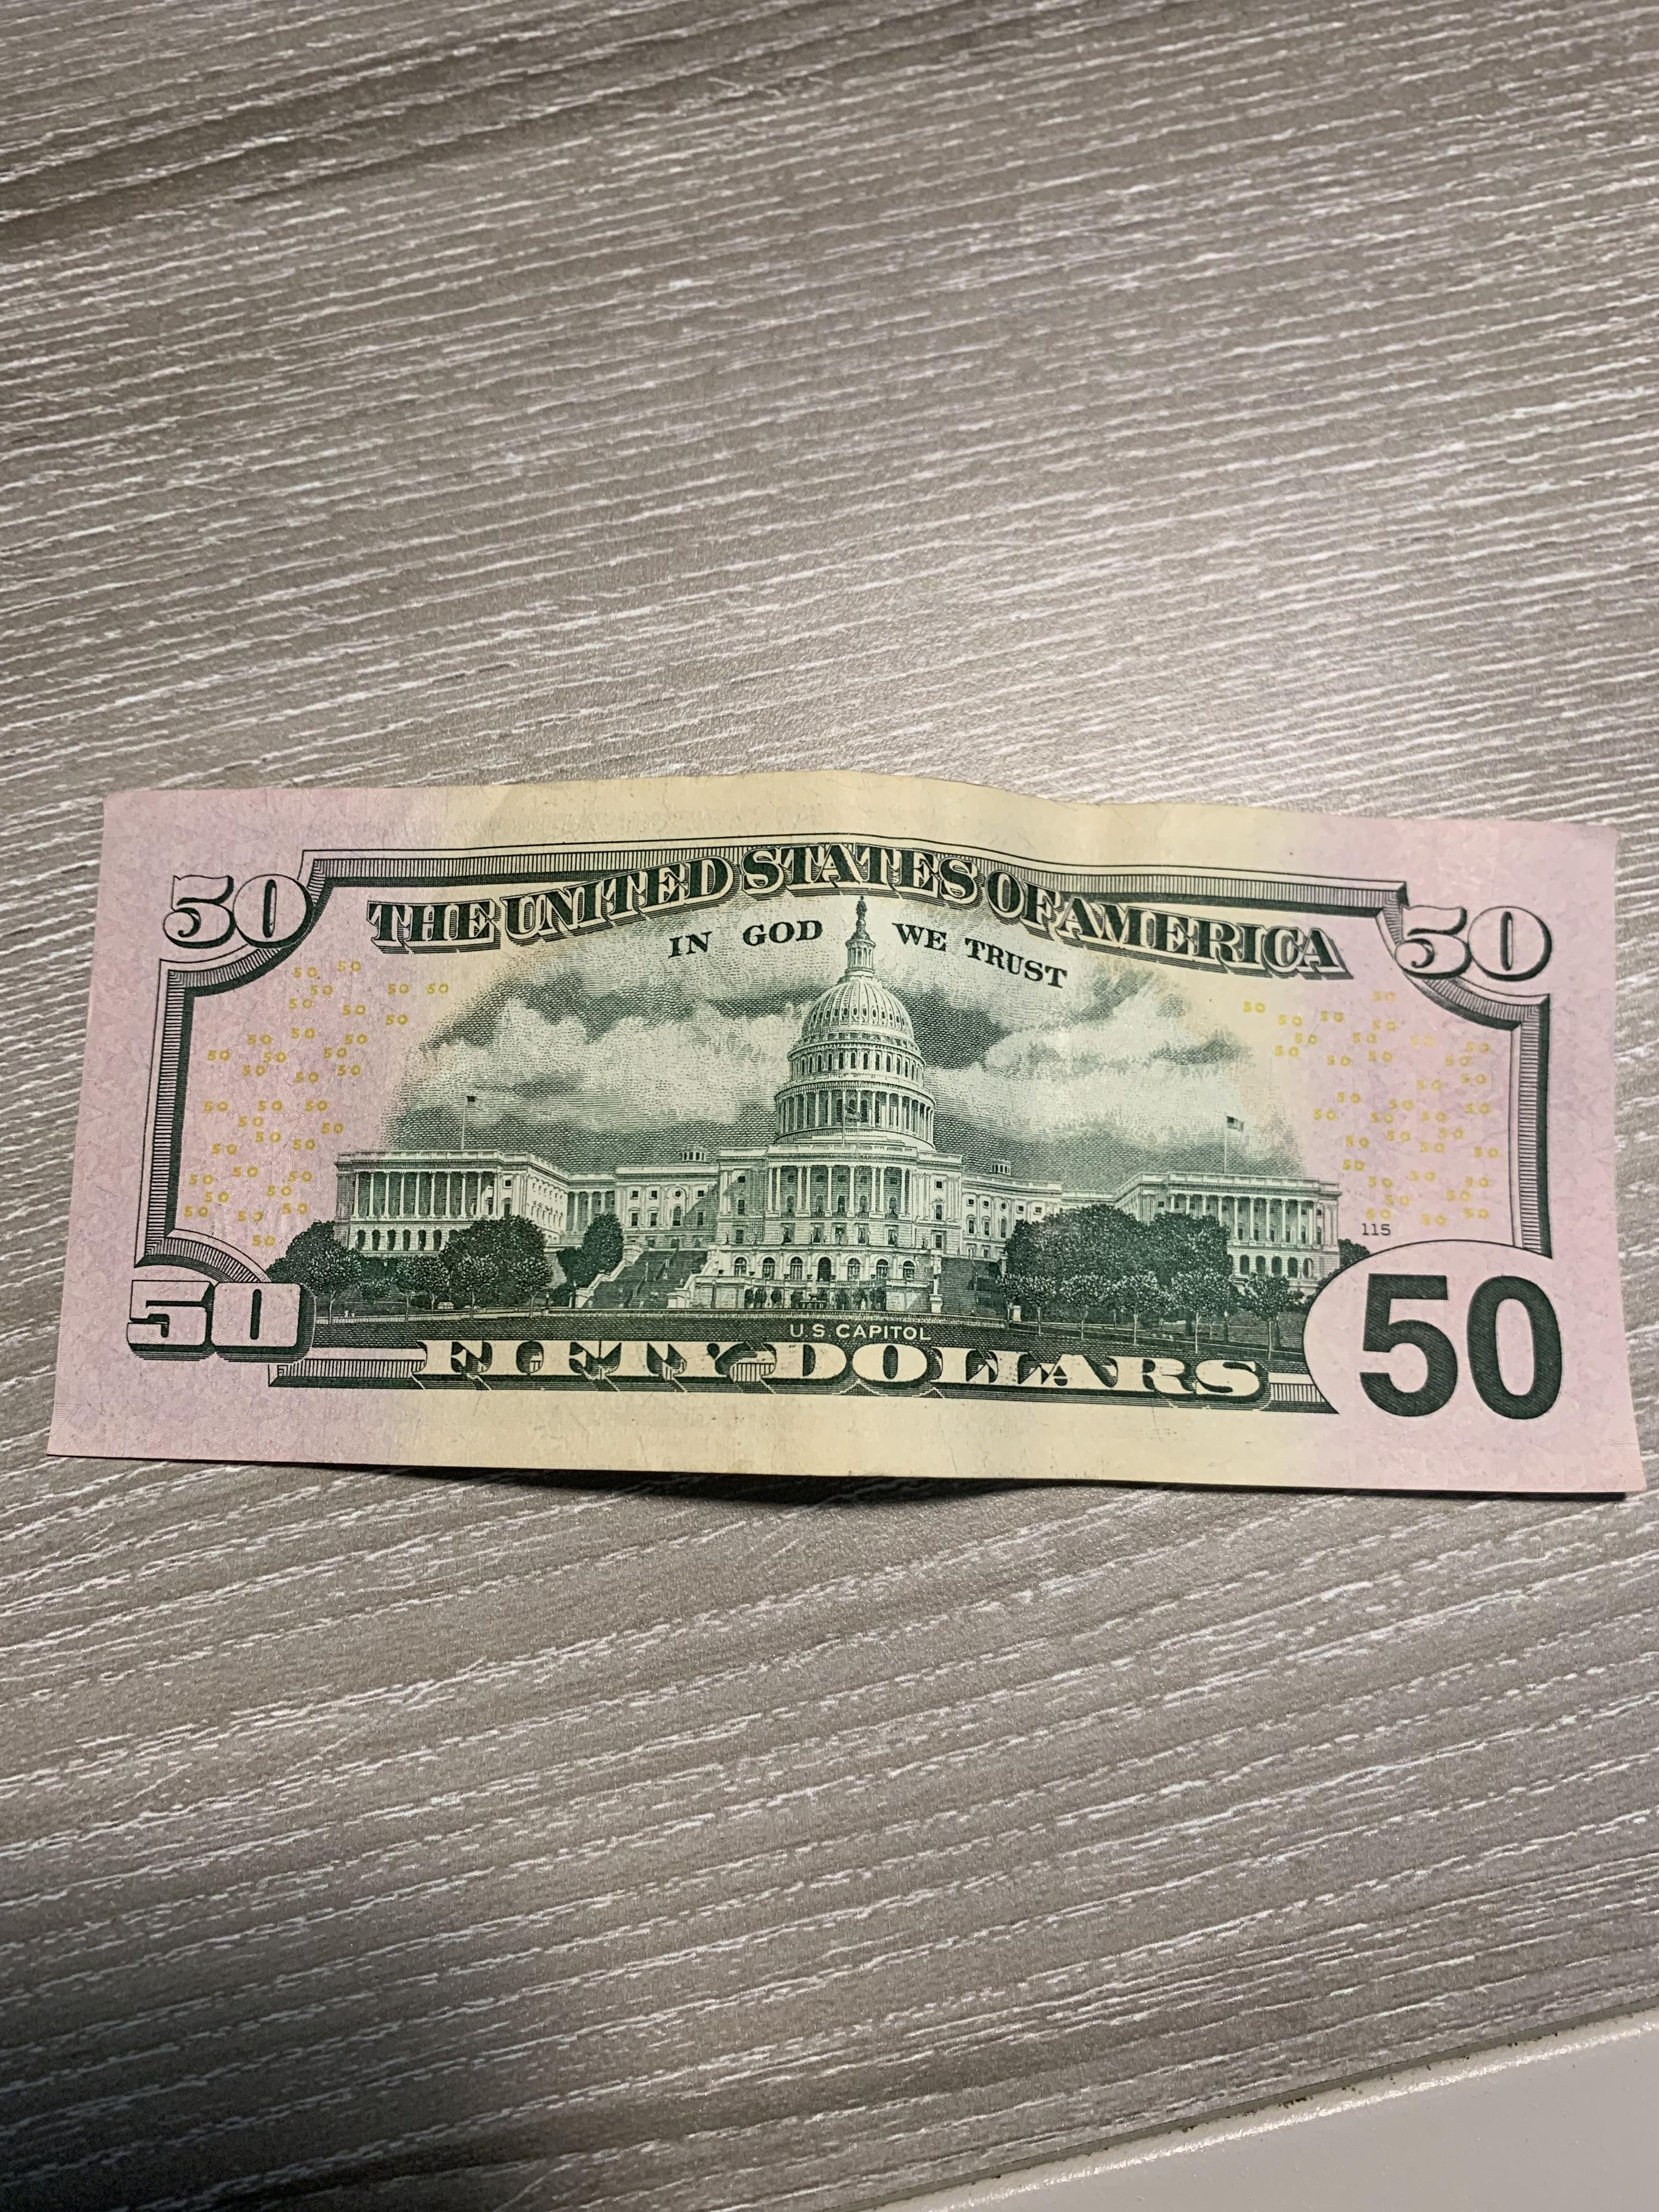FiftyBill: (40, 772, 1652, 1526)
